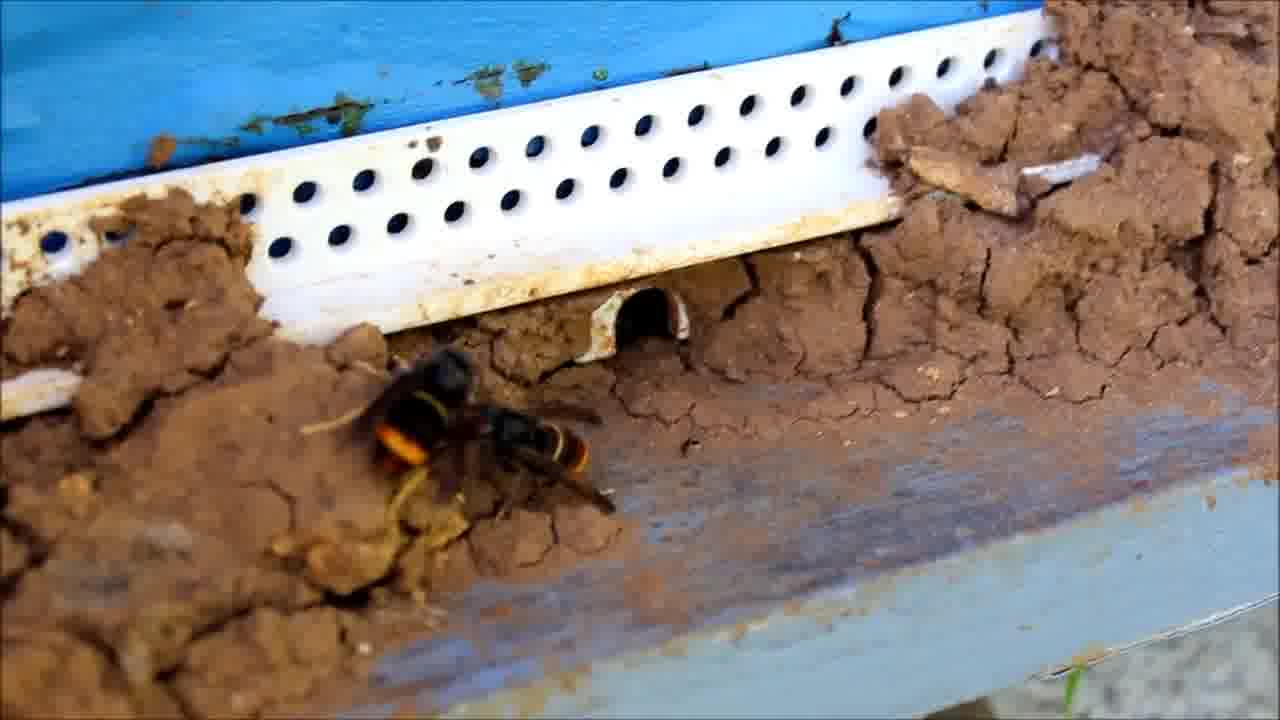hornet: (333, 341, 494, 532), (464, 396, 629, 520)
